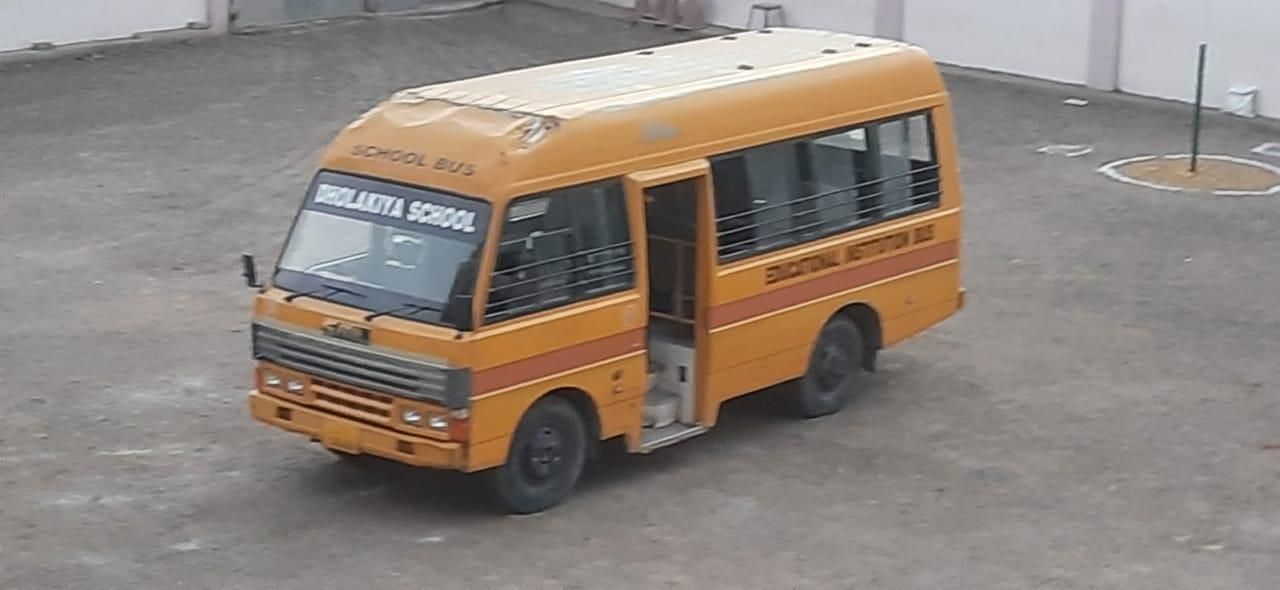Bus: (244, 23, 1001, 522)
